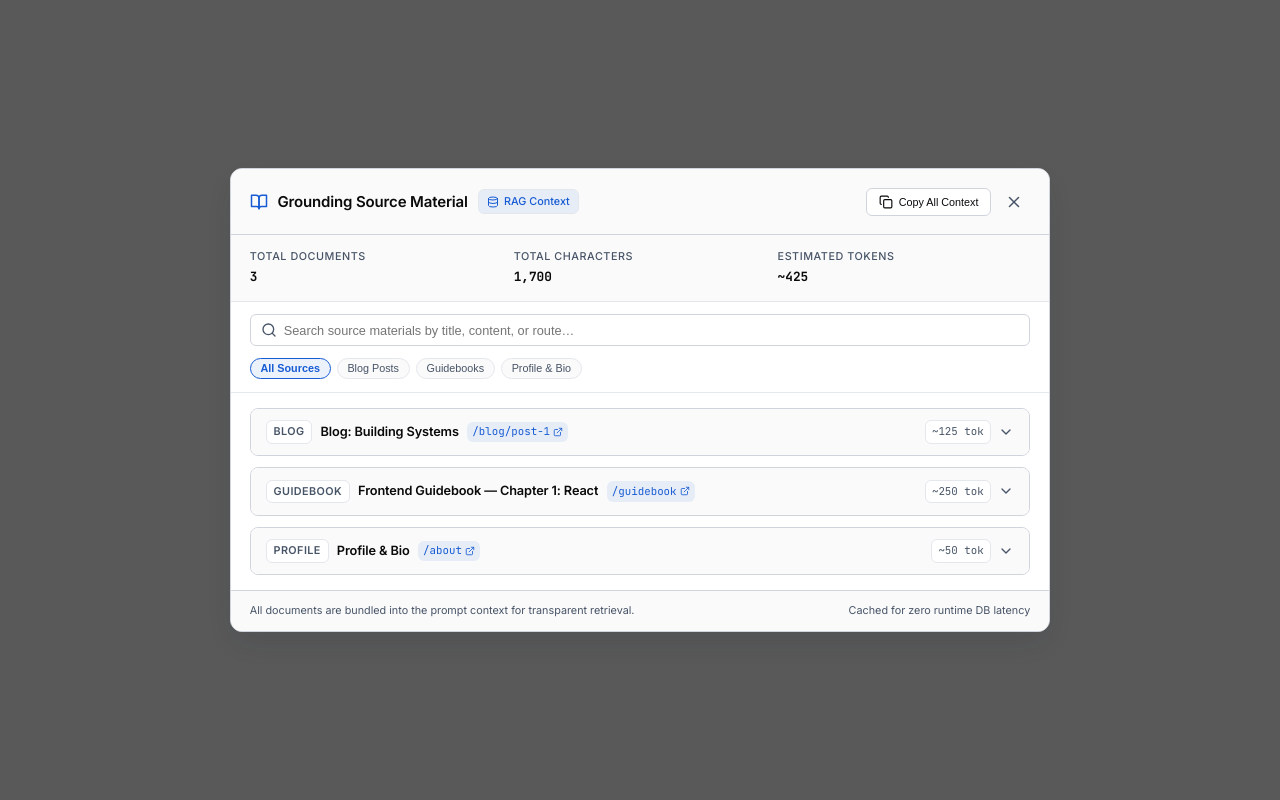
Scenario: ChatSourcesModal › filters sources by search query
Check: the heading "Blog: Building Systems" is shown, box [320,422,459,442]
Type "Guidebook" into the field with placeholder "Search source materials by title, content, or route…" at (640, 330), box [250,314,1030,346]
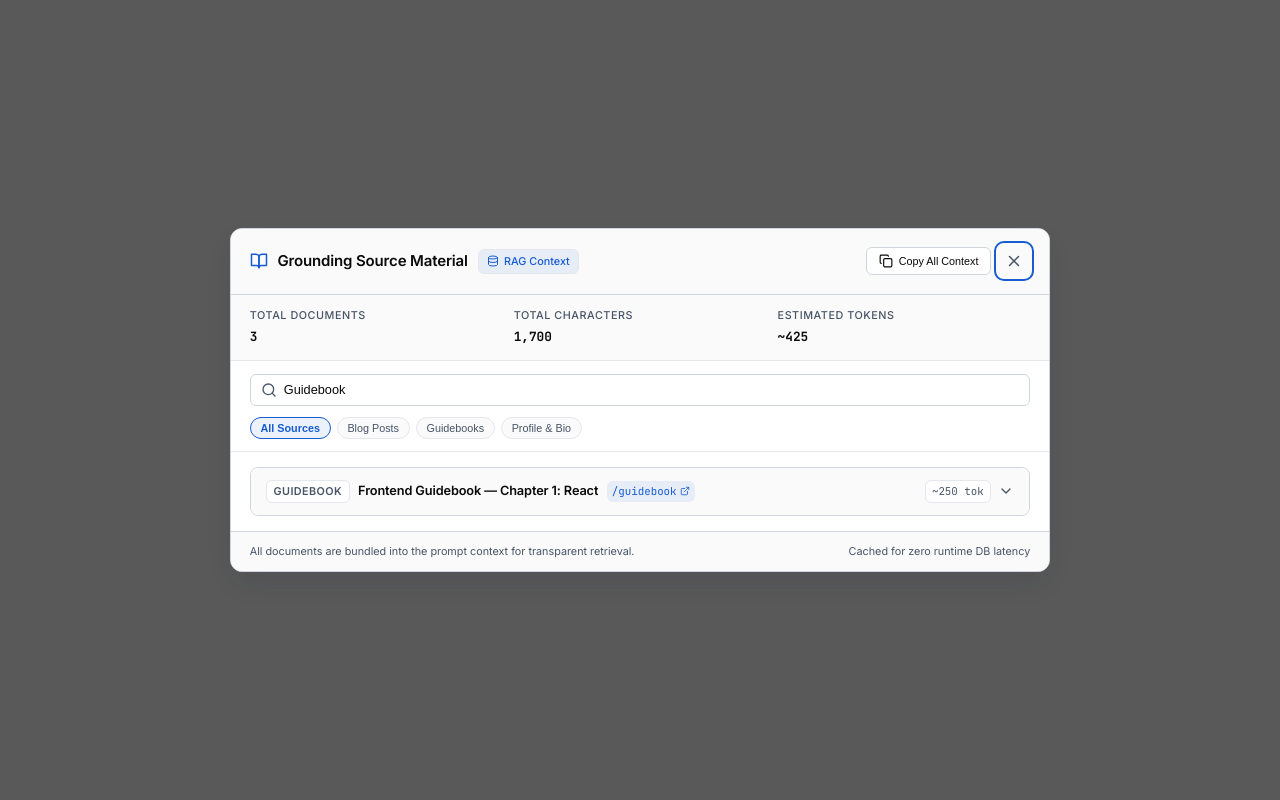
Check: the heading "Frontend Guidebook — Chapter 1: React" is shown, box [358,481,598,502]
Check: the button "Blog: Building Systems" is gone
